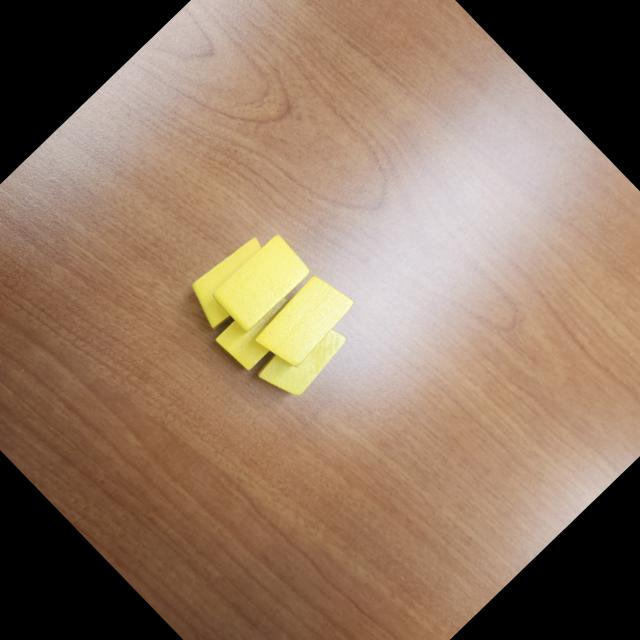yellow: (250, 266, 362, 376), (208, 228, 316, 336), (178, 228, 284, 333), (252, 307, 356, 410), (214, 281, 308, 374)
